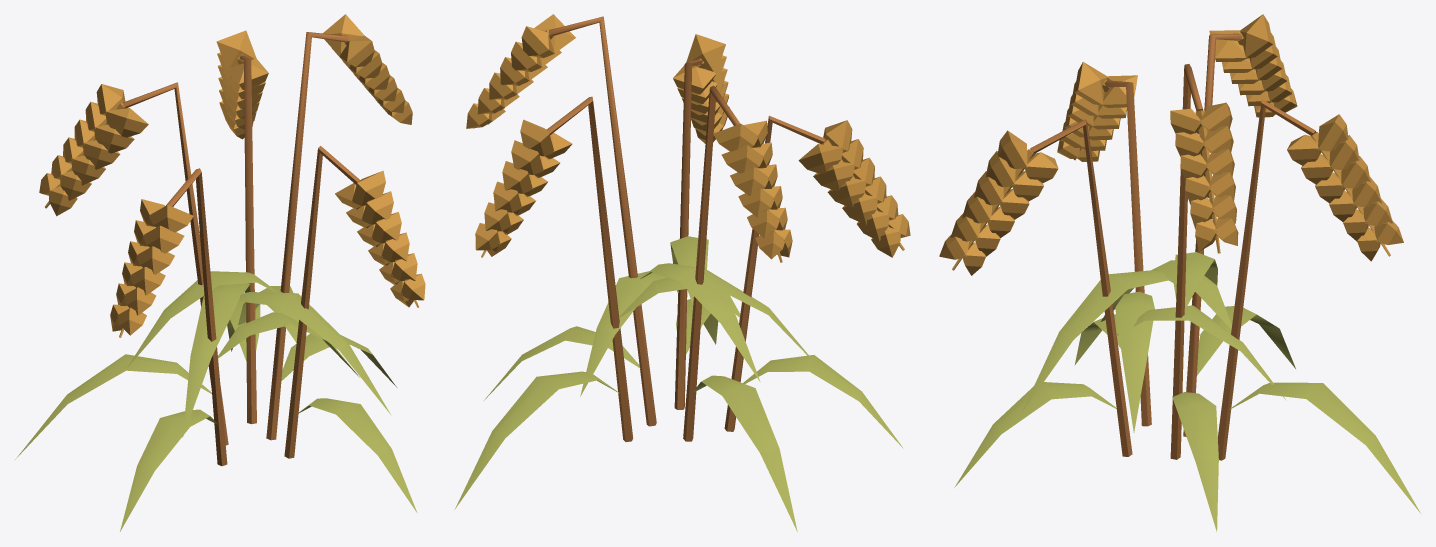
The model's file is crop_wheat_overripe.glb.
The picture shows the model from 3 angles, left to right: view 1: azimuth 30°, elevation 25°; view 2: azimuth 150°, elevation 25°; view 3: azimuth 270°, elevation 25°; orthographic projection. The views are drawn at different scales.
Parts seen in each view (by area): view 1: wheat_head_0_grain, wheat_leaf_0_0, wheat_stalk_0; view 2: wheat_head_0_grain, wheat_leaf_0_0, wheat_stalk_0; view 3: wheat_head_0_grain, wheat_leaf_0_0, wheat_stalk_0.
Part boxes in pixels (box(x1,y1,x2,y2)): wheat_head_0_grain: box(39, 14, 425, 337); wheat_leaf_0_0: box(15, 271, 417, 531); wheat_stalk_0: box(123, 32, 359, 466); wheat_head_0_grain: box(466, 14, 910, 262); wheat_leaf_0_0: box(455, 236, 903, 531); wheat_stalk_0: box(546, 16, 825, 441); wheat_head_0_grain: box(939, 14, 1403, 275); wheat_leaf_0_0: box(954, 252, 1421, 531); wheat_stalk_0: box(1030, 33, 1315, 460).
Size of the model in its own units: 0.9385 by 1.03 by 1.04.
